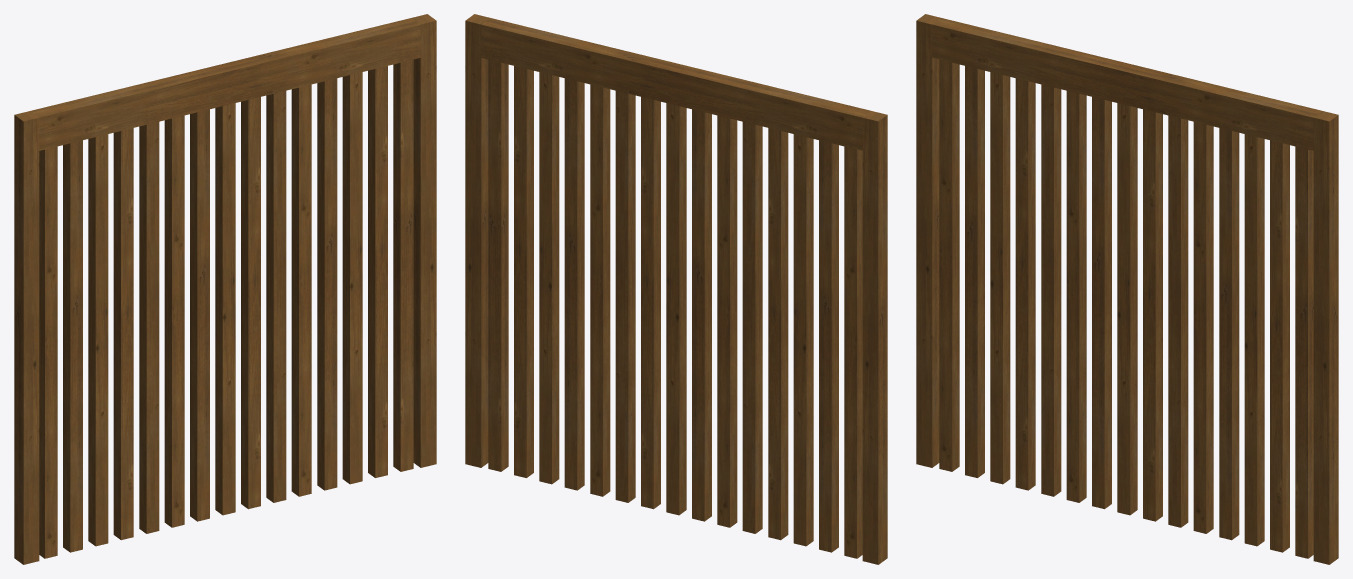
Rendered from es-slit60_h2000_naturalpine.fbx.
The picture shows the model from 3 angles, left to right: view 1: azimuth 30°, elevation 25°; view 2: azimuth 150°, elevation 25°; view 3: azimuth 330°, elevation 25°; orthographic projection.
Parts seen in each view (by area): view 1: es-slit60_h2000_naturalpine; view 2: es-slit60_h2000_naturalpine; view 3: es-slit60_h2000_naturalpine.
Boxes of the visible parts, x1,y1,x2,y2 form: es-slit60_h2000_naturalpine: (14,14,436,564); es-slit60_h2000_naturalpine: (465,14,887,564); es-slit60_h2000_naturalpine: (916,14,1338,564).
Bounding box in the file's own units: 195 × 200 × 7.5.
1 material, 1 textured.
